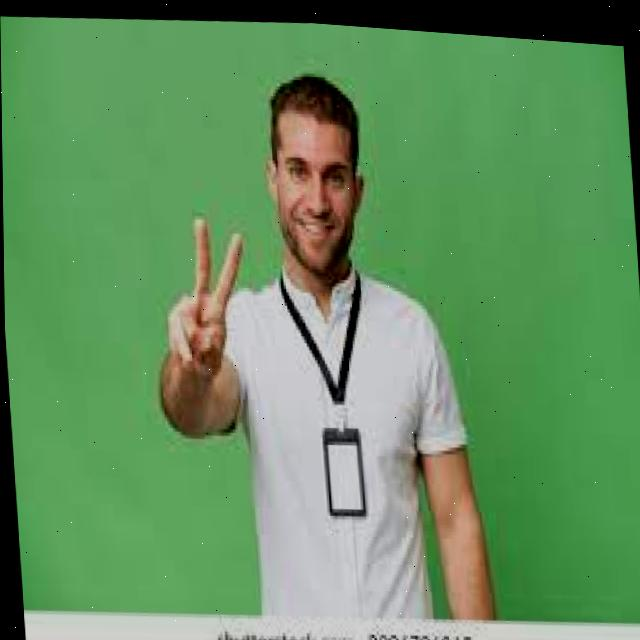id_card: (278, 258, 388, 528)
